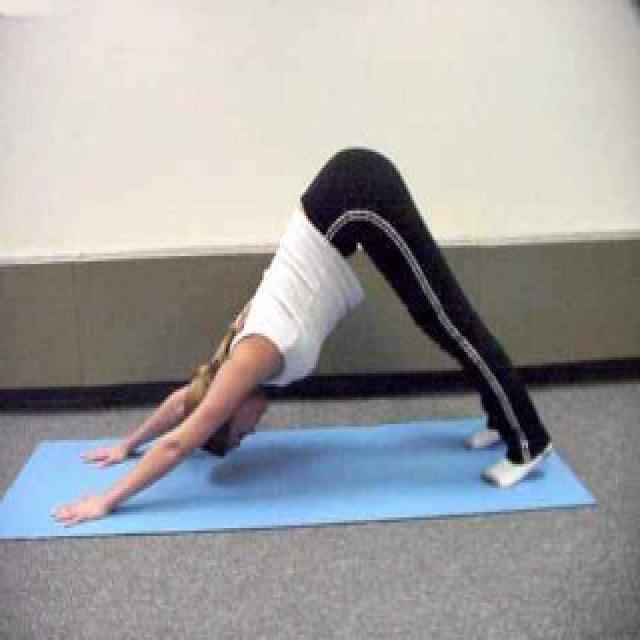yoga-pose downward: (52, 143, 553, 532)
